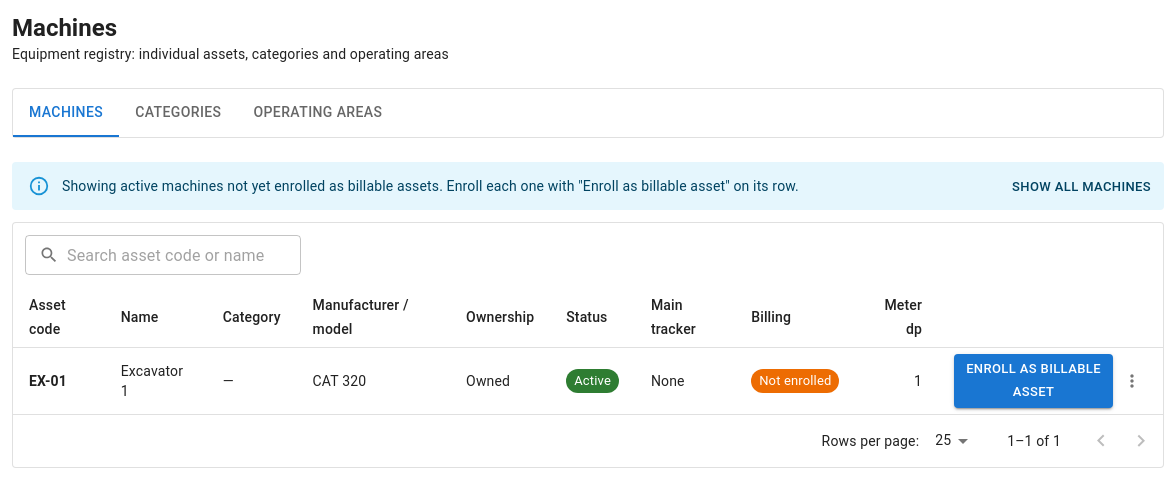
Test: machine list ?missing= views (go-live checklist links) › ?missing=enrollment filters on the server and puts Enroll on the row; Show all clears it
The width and height of the screenshot is (1176, 485).
Check: the text "Excavator 1" is shown, box [105,348,207,414]
Check: the text "Not enrolled" is shown, box [759,373,832,388]
Step 1. Click the button "Show all machines" → (1082, 187), box [1007,172,1156,203]
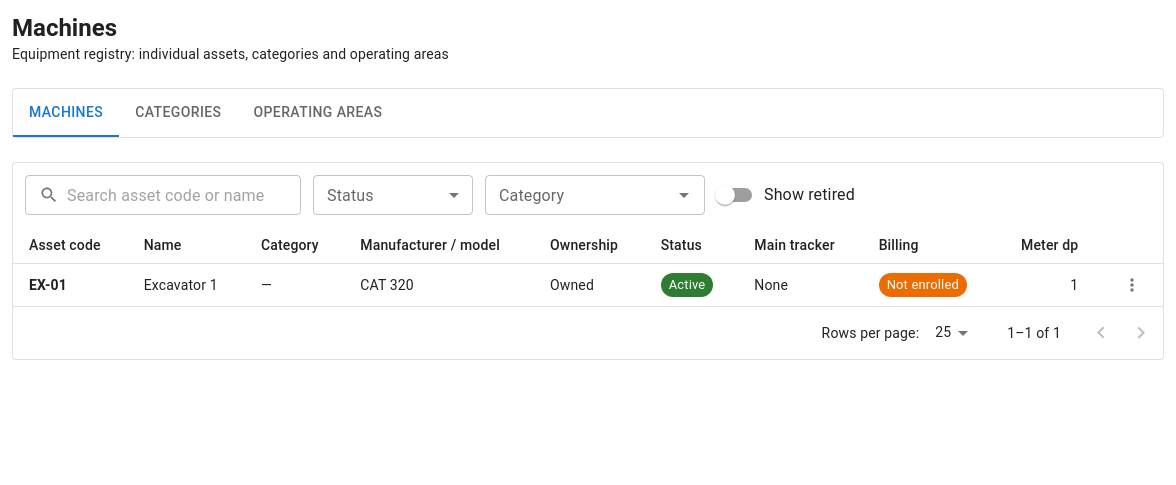
Check: the text "not yet enrolled as billable assets" is gone
Check: the text "Enroll as billable asset" is gone
